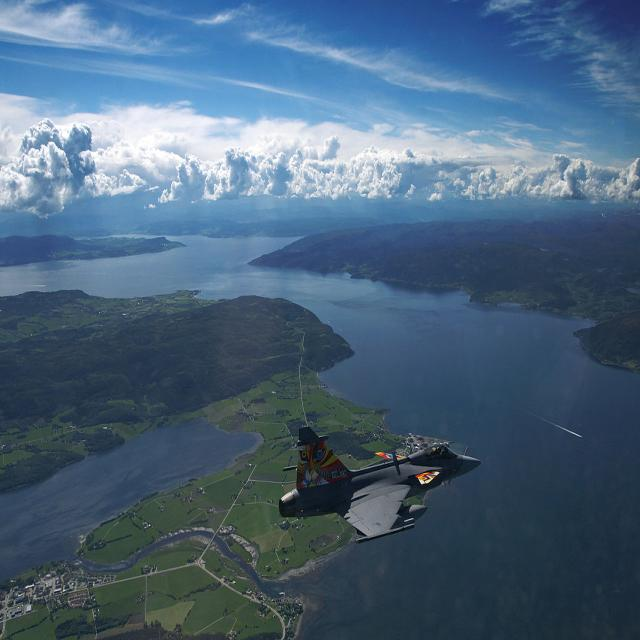MIL_Plane: (279, 426, 489, 544)
